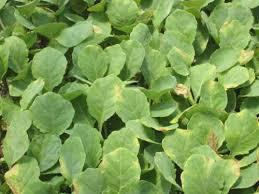Bok-Choy-Diseased: (187, 110, 228, 154), (83, 76, 123, 118)
